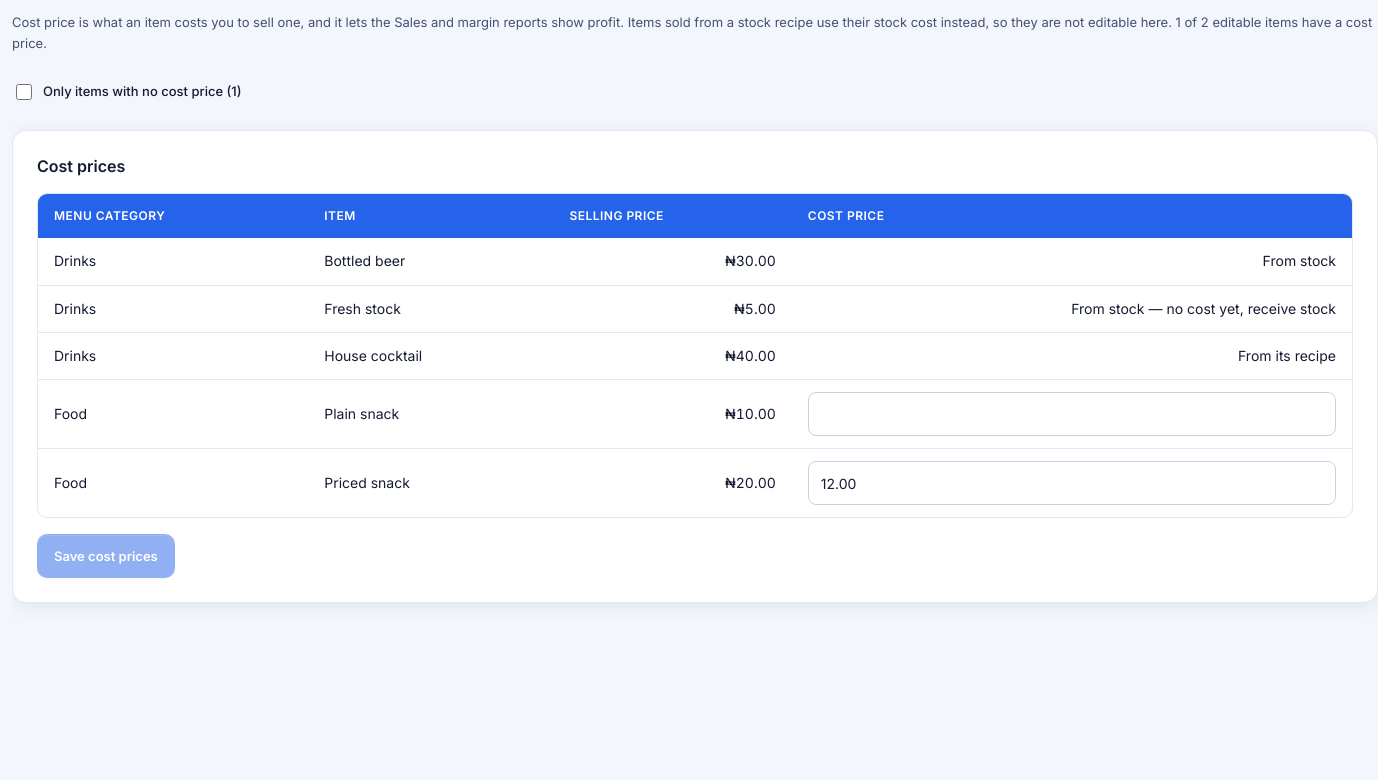
it: <CostPricesCard> › rejects an invalid amount before saving anything, naming the item
In the field named "Cost price for Plain snack": [1072, 414] box [808,392,1336,436], type "5"
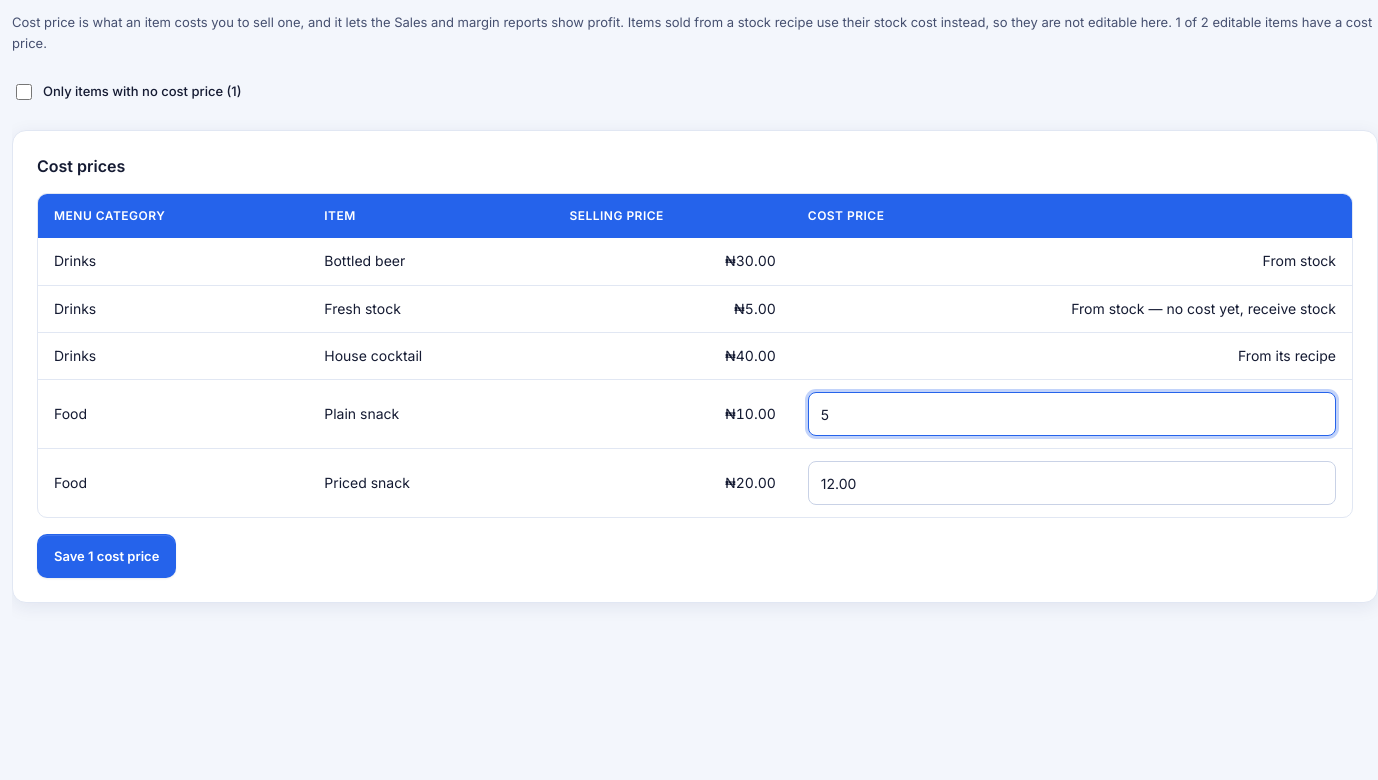
Replace the text in the field named "Cost price for Priced snack" with "1.999": [1072, 483] box [808,461,1336,505]
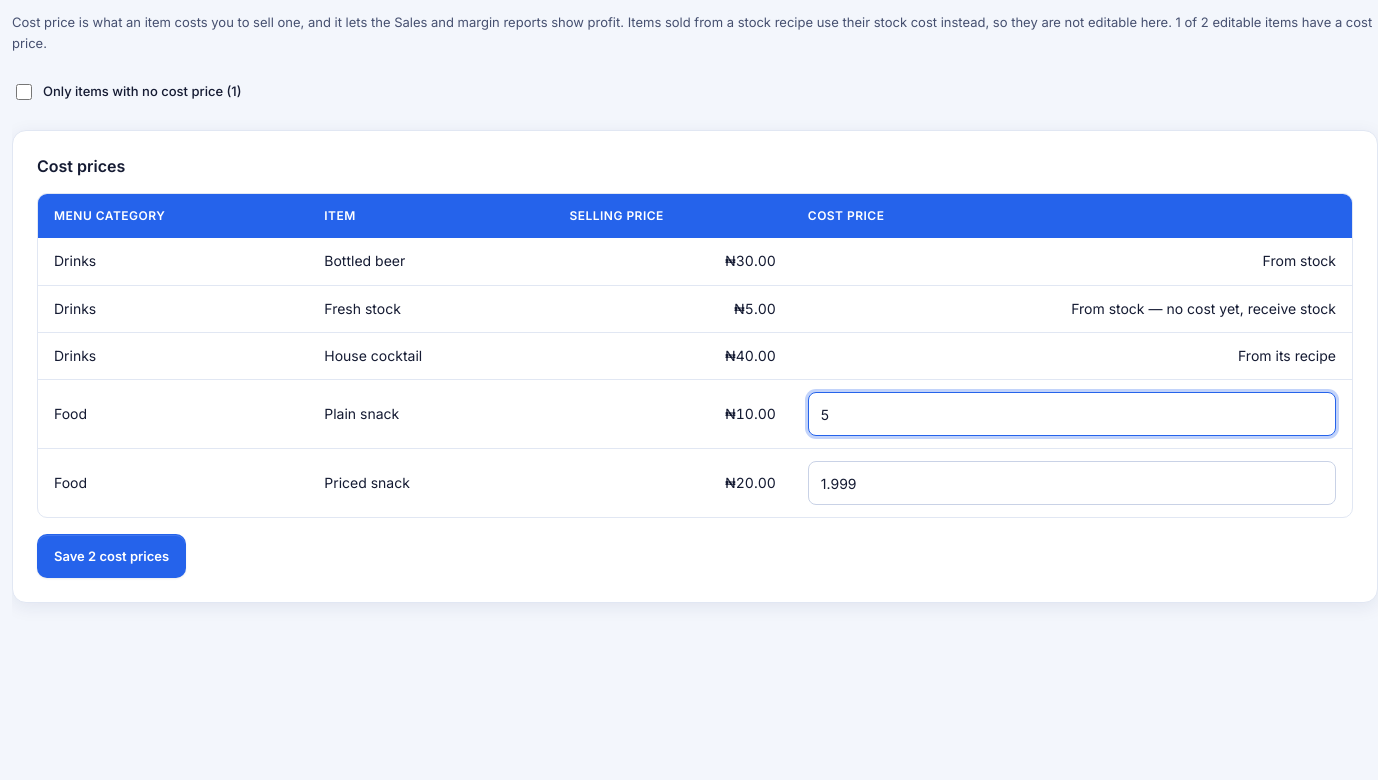
Click the button "Save 2 cost prices": [112, 556] box [37,534,186,578]
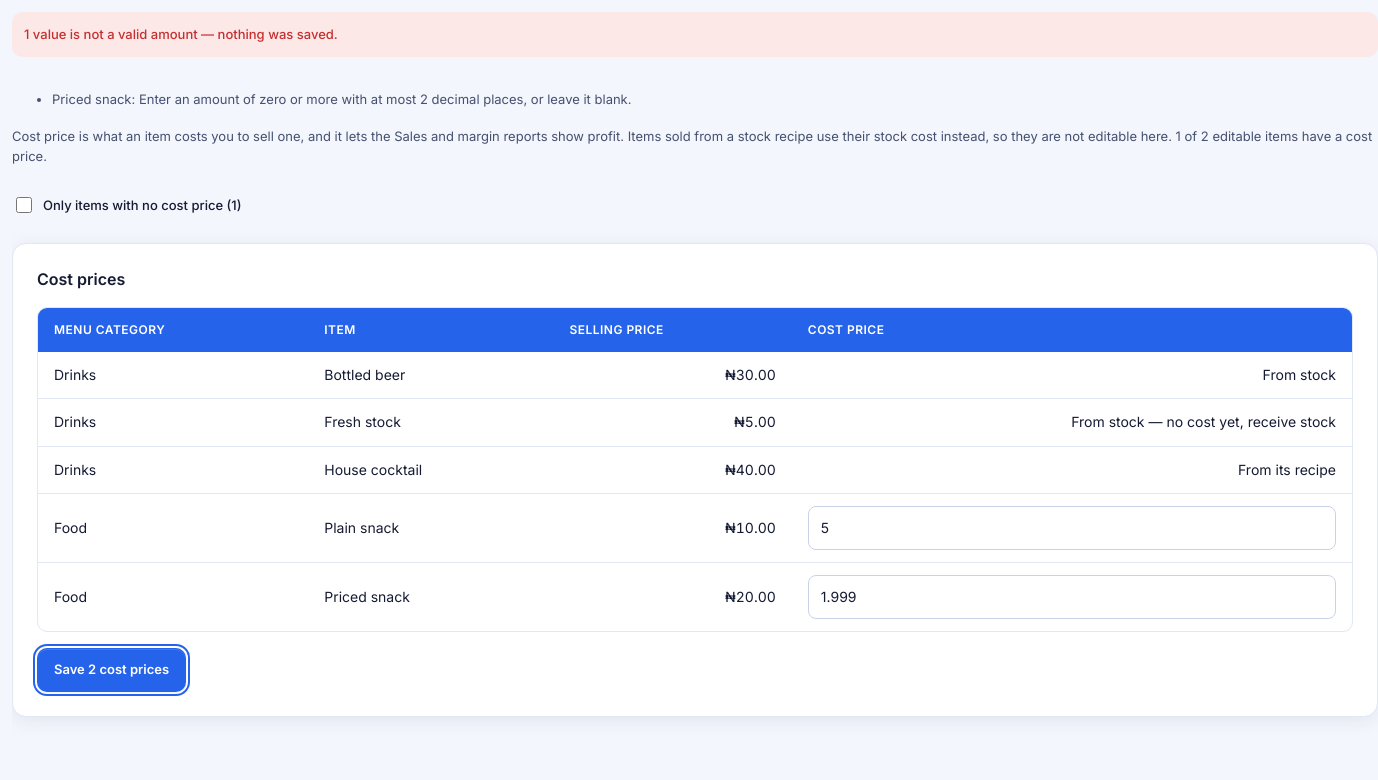
Result: the message shows "nothing was saved" at [24,26,338,42]
Result: the list item "Priced snack: Enter an amount of zero or more" is shown at [52,91,632,107]
